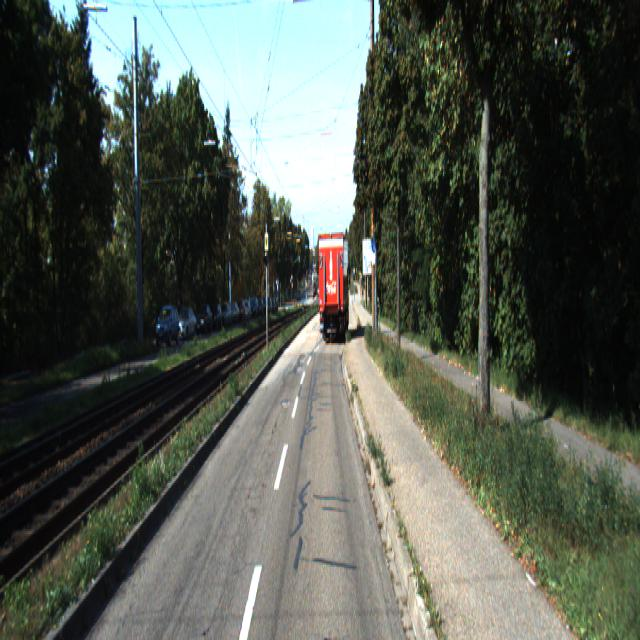Car: (316, 234, 351, 348), (154, 305, 180, 350), (171, 307, 195, 343), (192, 303, 212, 334)
